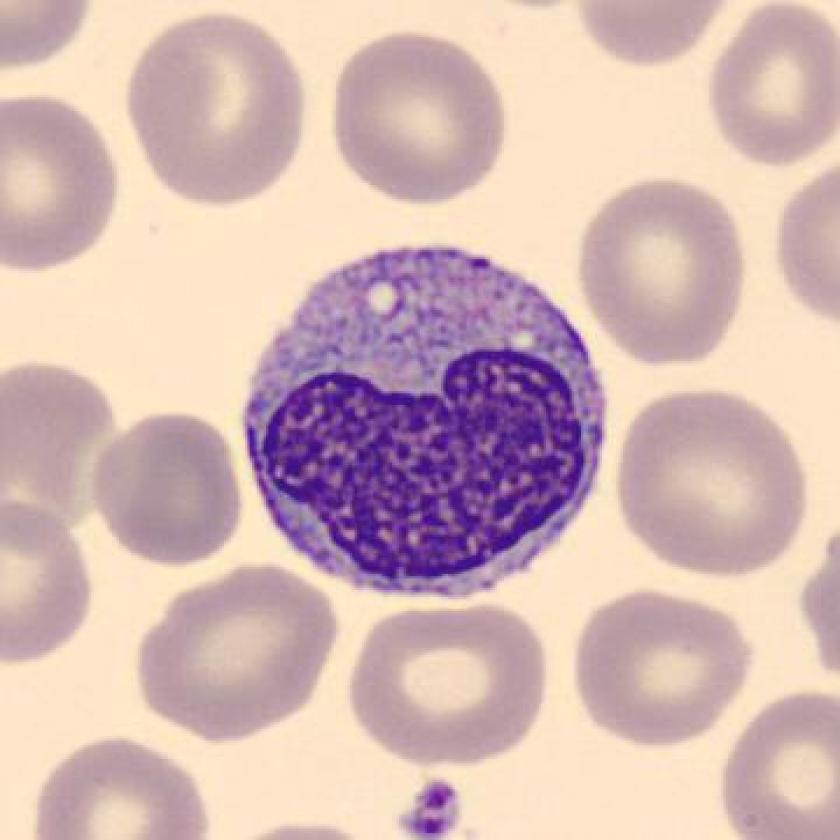monocyte: (216, 228, 631, 619)
